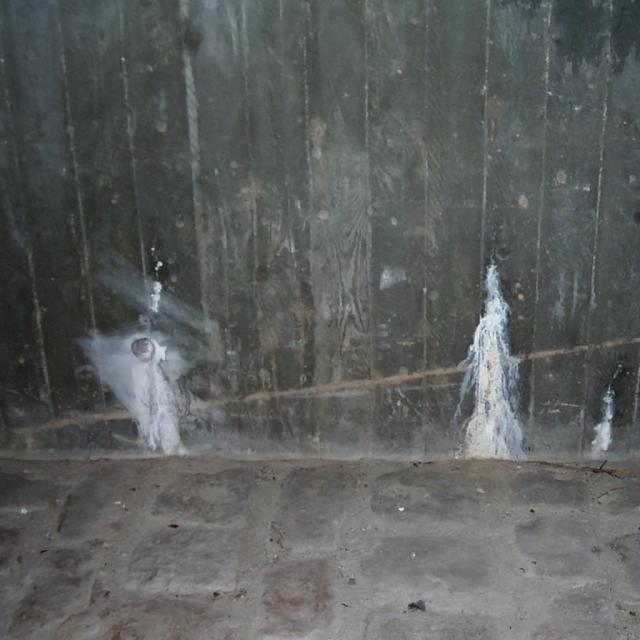D01: (454, 262, 525, 461), (82, 334, 183, 457)
